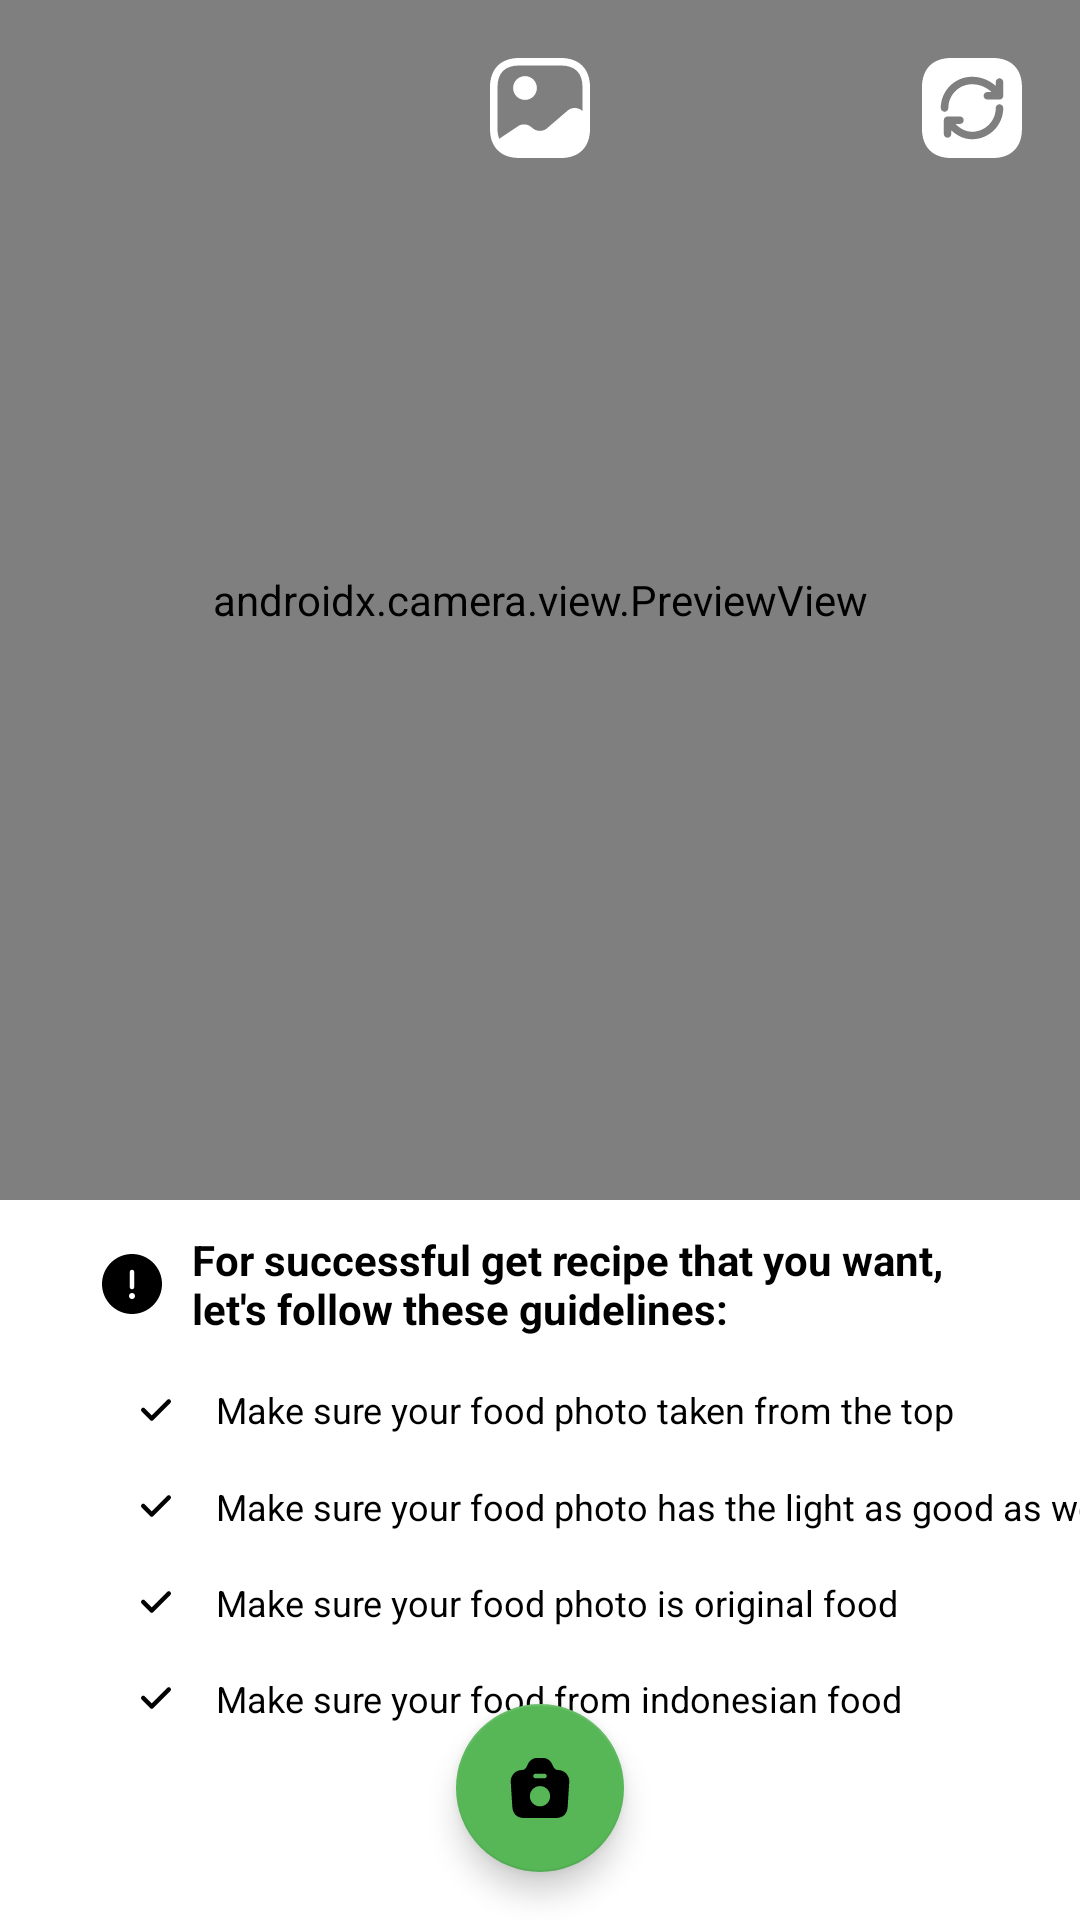

Point at icon controls on the screen. Image size 1080px×1920px, points as (x=x, y=y).
camera: (x=540, y=1788)
gallery: (x=540, y=108)
reverse: (x=972, y=108)
tick: (x=156, y=1410), (x=156, y=1506), (x=156, y=1602), (x=156, y=1698)
